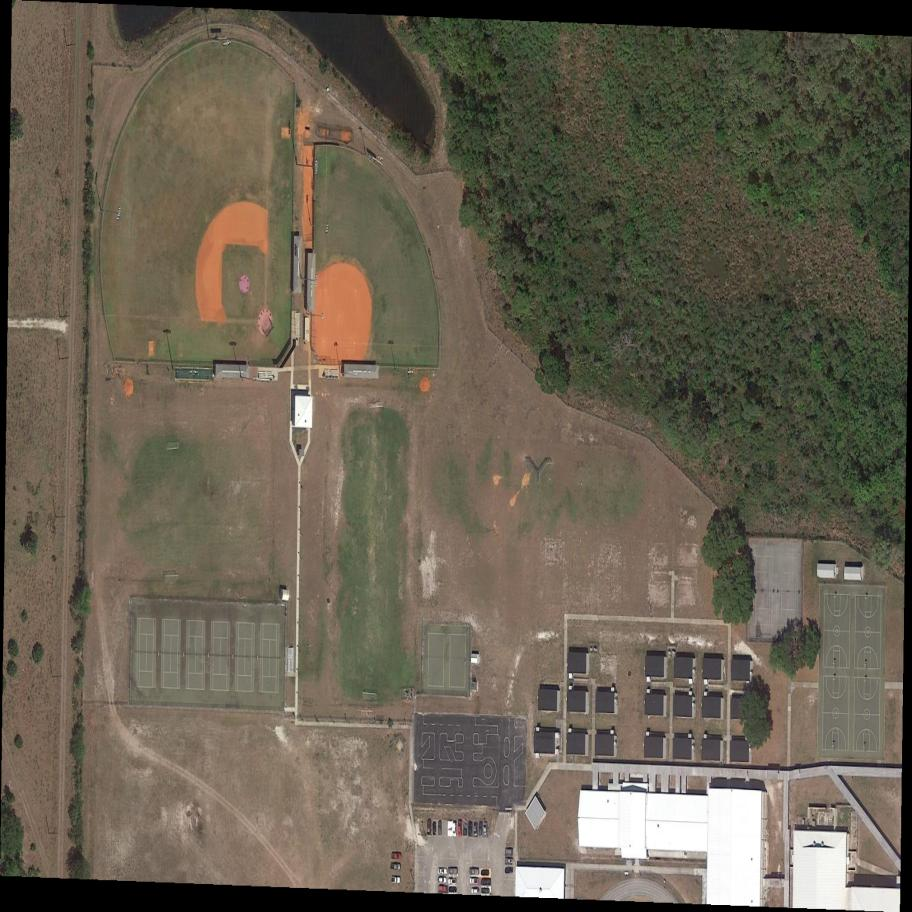small-vehicle: (391, 851, 402, 862), (469, 867, 480, 877), (426, 819, 432, 837), (437, 884, 449, 893), (473, 821, 479, 838), (391, 875, 401, 885), (505, 866, 515, 875), (448, 867, 458, 876), (478, 821, 484, 836), (390, 862, 401, 870), (458, 820, 463, 837), (481, 868, 490, 877), (453, 821, 458, 837), (481, 878, 491, 886), (468, 821, 473, 837), (448, 878, 458, 886), (438, 876, 448, 884), (438, 868, 448, 876), (483, 822, 488, 837), (471, 886, 480, 894), (505, 857, 514, 865), (470, 877, 479, 885), (438, 820, 442, 836), (449, 886, 458, 893), (482, 888, 491, 895), (433, 821, 437, 836)
